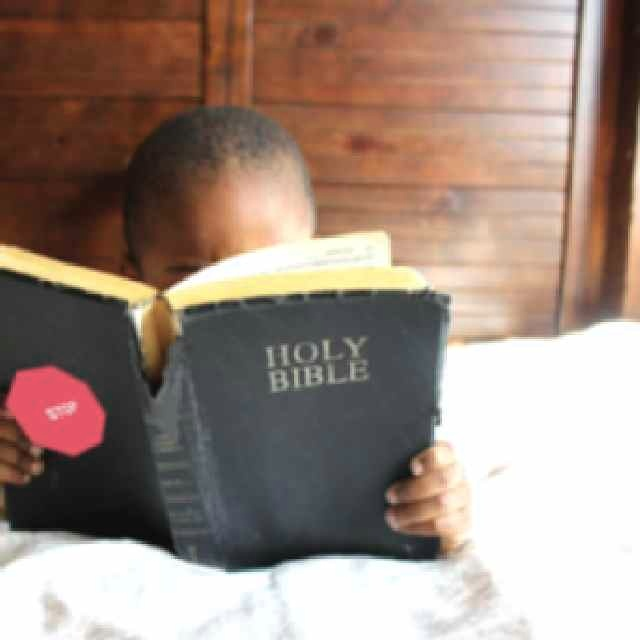STOP: (2, 363, 105, 456)
